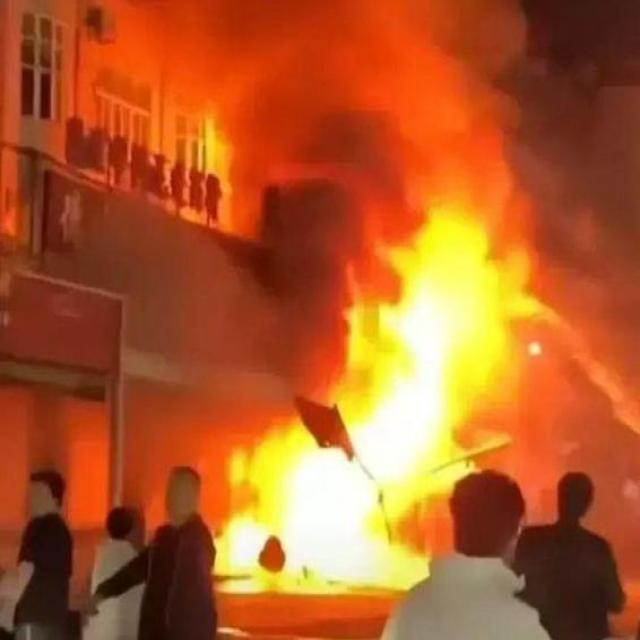Fire: (222, 444, 383, 592), (353, 274, 462, 462)
